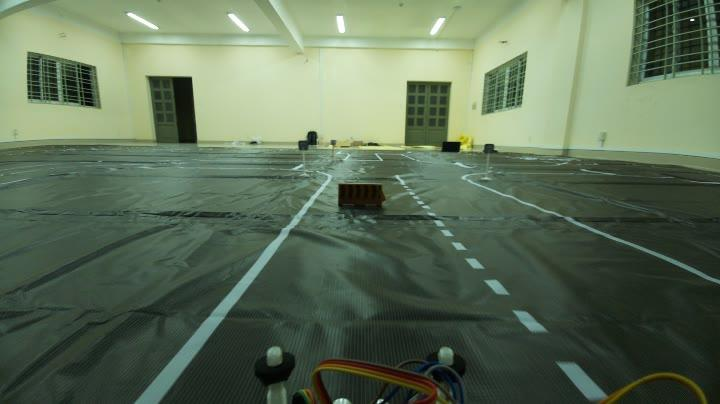roadblock: (331, 176, 394, 221)
